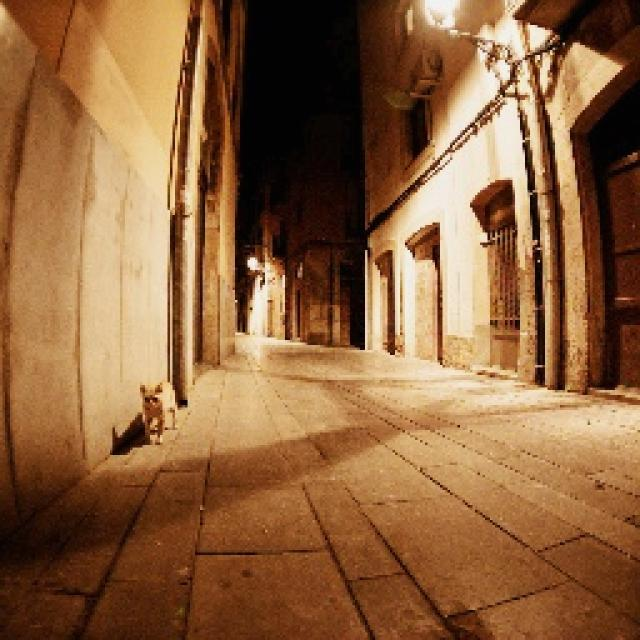cat: (124, 352, 186, 456)
